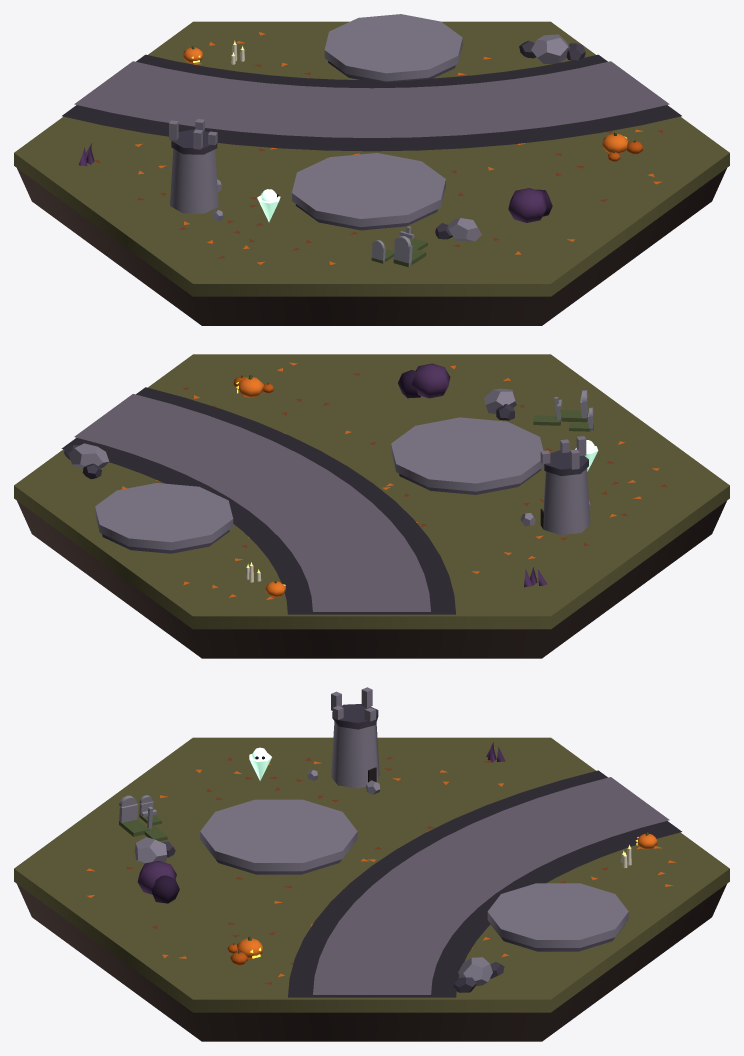
The model's file is tile_watchtower.glb.
3 views of the same model, one above another, from view 1: azimuth 30°, elevation 25°; view 2: azimuth 150°, elevation 25°; view 3: azimuth 270°, elevation 25° (orthographic).
Visible parts, largest first — view 1: ground, road, ground_soil, tower_slot_2_plate, tower_slot_1_plate, deco_tower_ruin_body, deco_rocks, deco_bush_2_a, deco_tower_ruin, deco_tower_ruin_ring, deco_stone_1_a; view 2: ground, road, ground_soil, tower_slot_2_plate, tower_slot_1_plate, deco_tower_ruin_body, deco_rocks, deco_bush_2_a, deco_tower_ruin, deco_tower_ruin_ring, deco_stone_1_a, tower_slot_2_socket; view 3: ground, road, ground_soil, tower_slot_2_plate, tower_slot_1_plate, deco_tower_ruin_body, deco_rocks, deco_tower_ruin, deco_bush_2_a, deco_tower_ruin_ring, deco_stone_1_a, deco_bush_2_b.
Boxes of the visible parts, <box> form: ground: <box>14,21,729,296</box>; road: <box>62,54,681,151</box>; ground_soil: <box>17,168,726,325</box>; tower_slot_2_plate: <box>292,153,445,227</box>; tower_slot_1_plate: <box>324,14,462,81</box>; deco_tower_ruin_body: <box>170,148,218,213</box>; deco_rocks: <box>519,34,585,63</box>; deco_bush_2_a: <box>508,188,547,222</box>; deco_tower_ruin: <box>169,119,223,220</box>; deco_tower_ruin_ring: <box>171,129,217,154</box>; deco_stone_1_a: <box>447,218,481,241</box>; ground: <box>14,354,729,629</box>; road: <box>61,387,455,614</box>; ground_soil: <box>17,501,726,658</box>; tower_slot_2_plate: <box>391,417,544,491</box>; tower_slot_1_plate: <box>95,483,233,550</box>; deco_tower_ruin_body: <box>543,468,590,534</box>; deco_rocks: <box>63,443,109,479</box>; deco_bush_2_a: <box>411,363,450,398</box>; deco_tower_ruin: <box>520,436,591,526</box>; deco_tower_ruin_ring: <box>544,450,588,475</box>; deco_stone_1_a: <box>484,388,516,413</box>; tower_slot_2_socket: <box>399,469,541,494</box>; ground: <box>14,737,729,1012</box>; road: <box>288,770,681,997</box>; ground_soil: <box>17,884,726,1041</box>; tower_slot_2_plate: <box>200,799,357,871</box>; tower_slot_1_plate: <box>487,883,628,947</box>; deco_tower_ruin_body: <box>331,721,379,788</box>; deco_rocks: <box>453,957,504,992</box>; deco_tower_ruin: <box>307,687,380,794</box>; deco_bush_2_a: <box>137,861,176,894</box>; deco_tower_ruin_ring: <box>332,704,378,729</box>; deco_stone_1_a: <box>135,837,167,863</box>; deco_bush_2_b: <box>152,875,179,903</box>.
Bounding box in the file's own units: 1.73 × 0.4 × 2.
